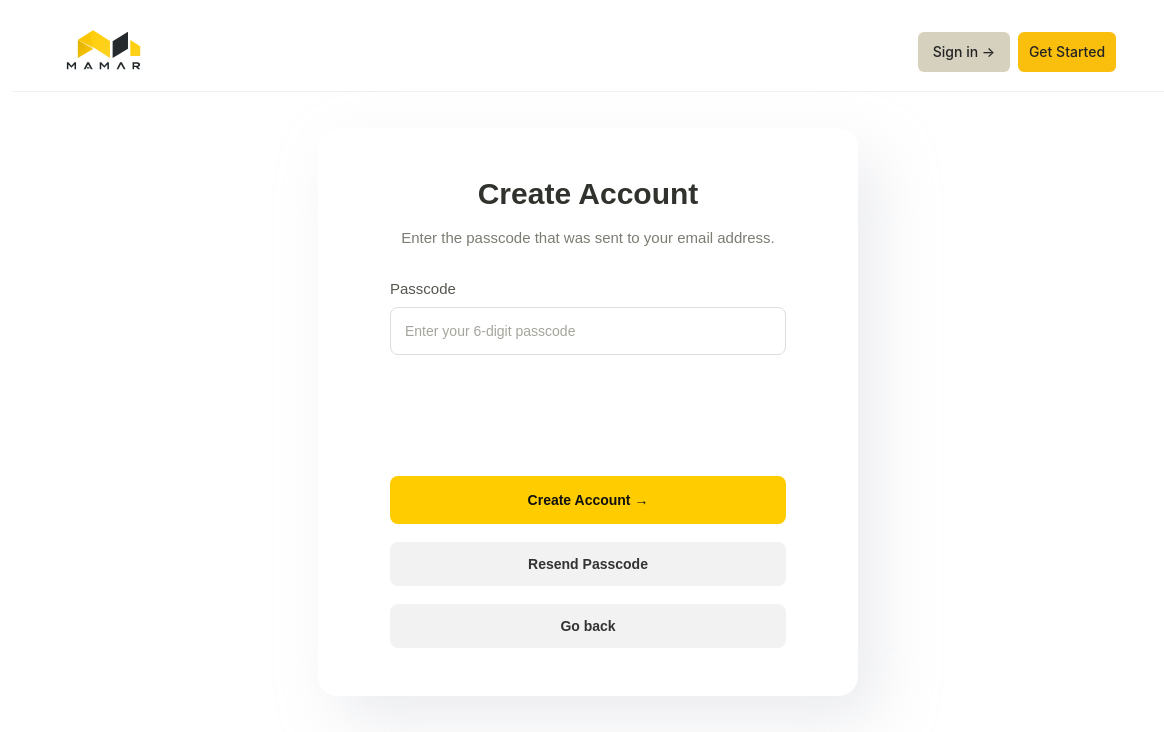
Test: RegisterVerificationPage - إنشاء الحساب › اختفاء التسجيل المعلّق قبل الإرسال يحوّل للتسجيل
Type "123456" into the field labelled "Passcode". click: (588, 331)
box: [390,307,786,355]
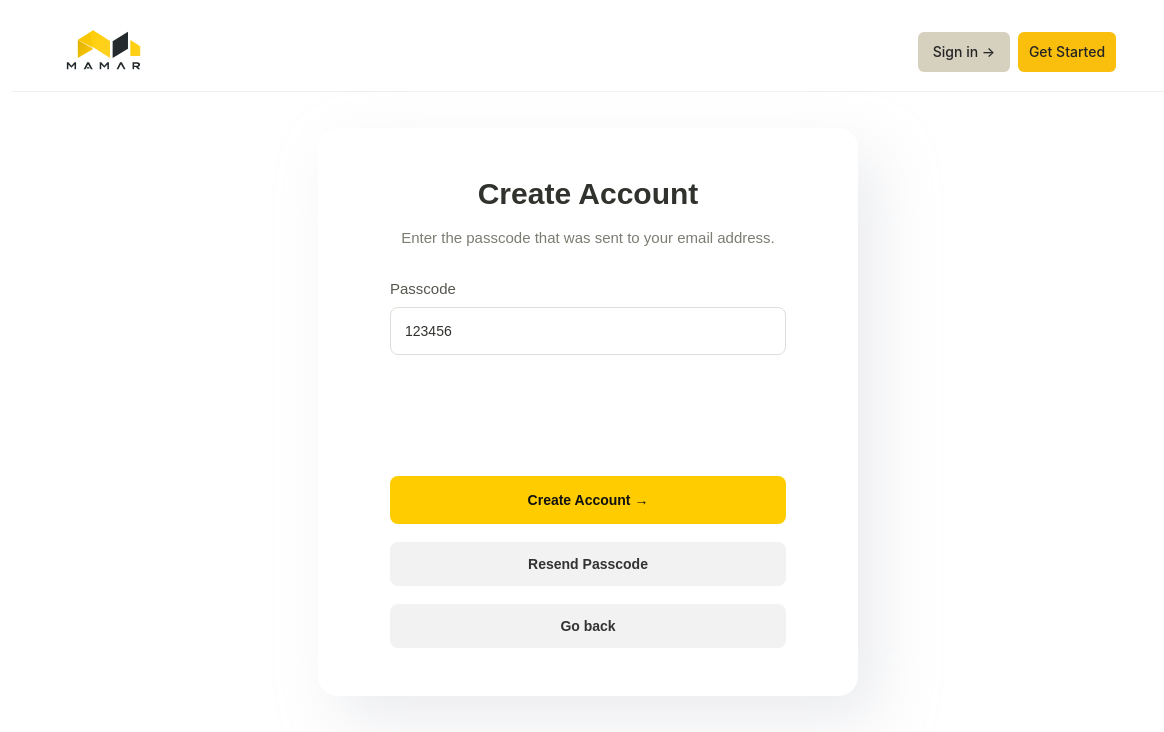
Click the button "Create Account →". click: (588, 500)
box: [390,476,786,524]
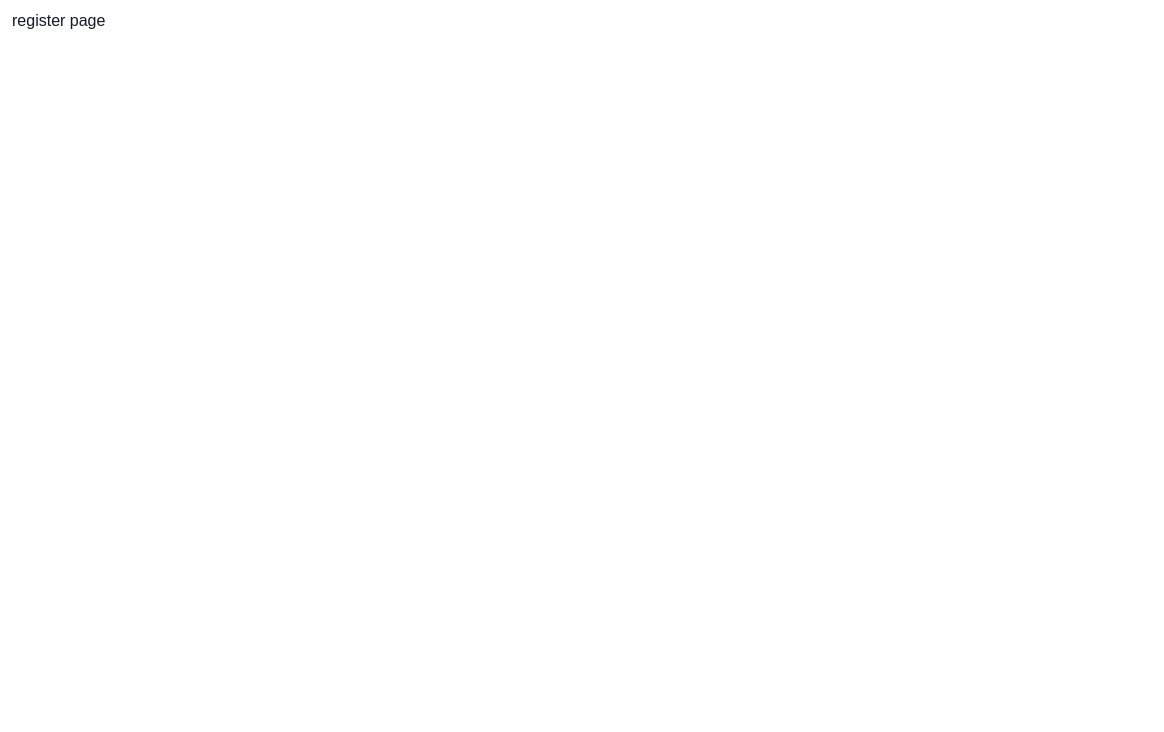
Expected: the text "register page" is shown, [12,12,105,29]
